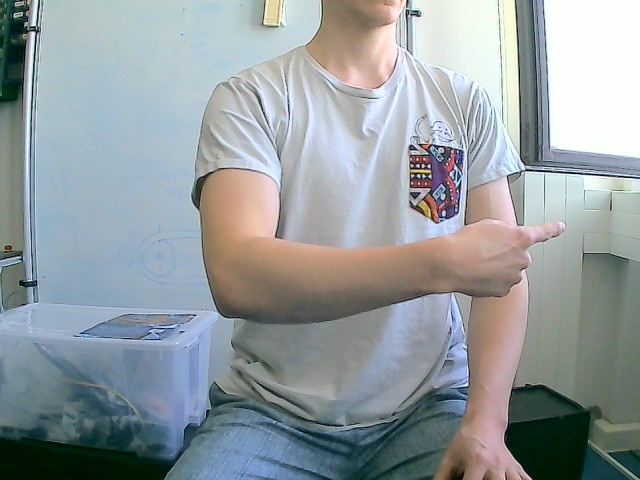left: (448, 217, 567, 299)
